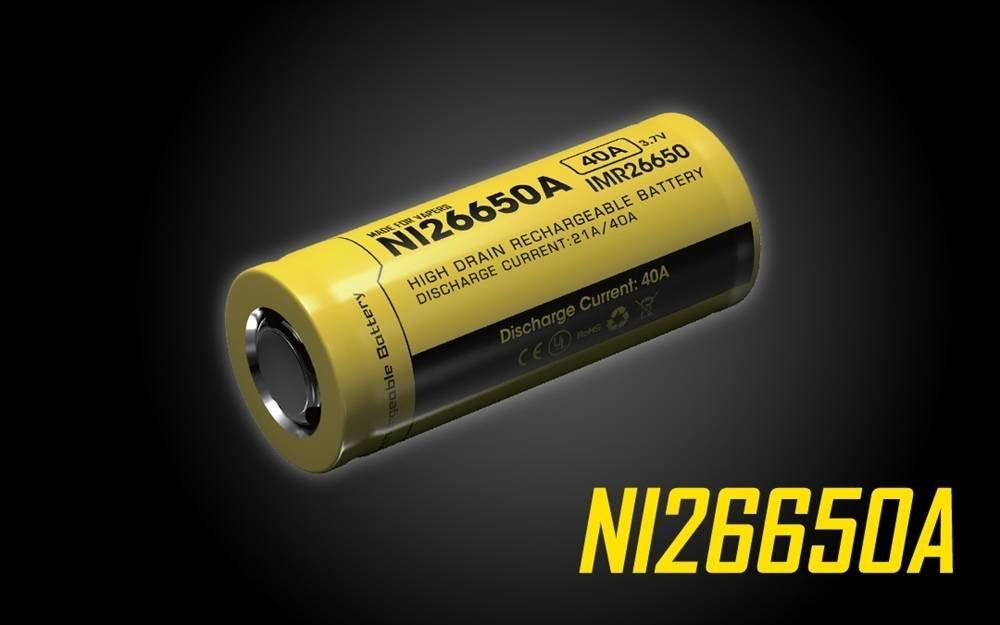Battery: (218, 104, 766, 479)
